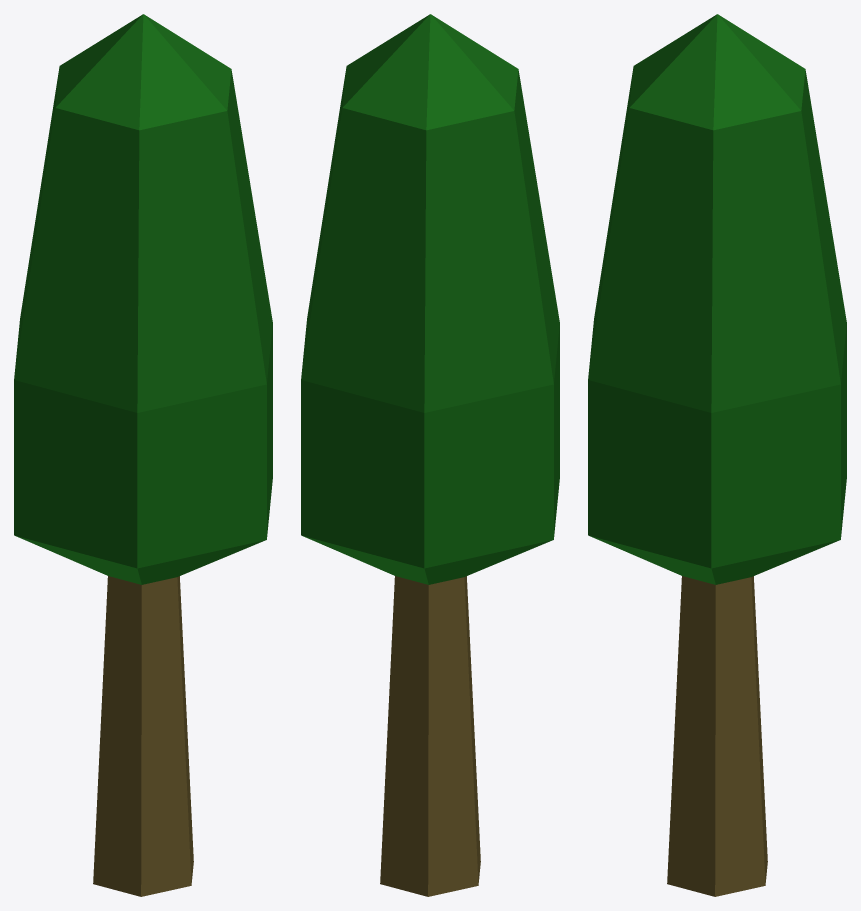
File: Vegetation_Tree_Common_Summer_01.fbx
3 views of the same model, side by side, from view 1: azimuth 30°, elevation 25°; view 2: azimuth 150°, elevation 25°; view 3: azimuth 270°, elevation 25° (orthographic).
Visible parts, largest first — view 1: Vegetation_Tree_Common_Summer_01; view 2: Vegetation_Tree_Common_Summer_01; view 3: Vegetation_Tree_Common_Summer_01.
Part boxes in pixels (x1,y1,x2,y2): Vegetation_Tree_Common_Summer_01: [14, 14, 272, 896]; Vegetation_Tree_Common_Summer_01: [301, 14, 559, 896]; Vegetation_Tree_Common_Summer_01: [588, 14, 846, 896].
Bounding box in the file's own units: 58.57 × 190 × 51.94.
